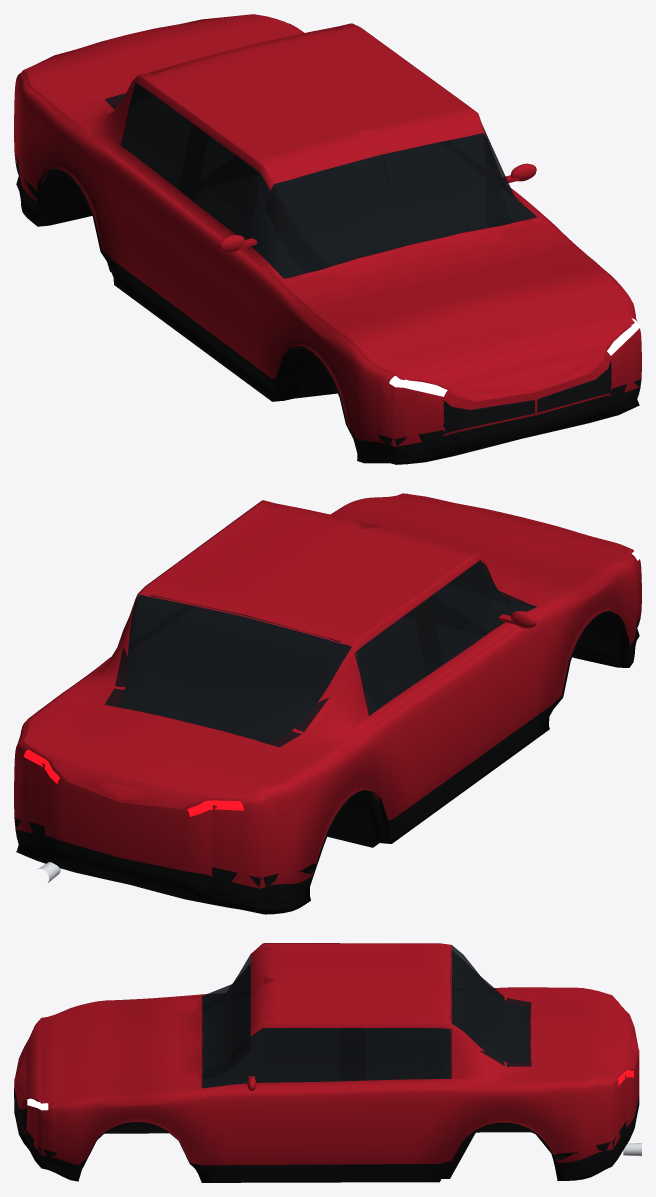
File: sedan.glb
3 views of the same model, one above another, from view 1: azimuth 30°, elevation 25°; view 2: azimuth 150°, elevation 25°; view 3: azimuth 270°, elevation 25° (orthographic). The views are drawn at different scales.
Visible parts, largest first — view 1: body (×2), grille, mirrors, headlights; view 2: body (×2); view 3: body (×2).
Boxes of the visible parts, x1=… form: body (×2): x1=14, y1=14, x2=641, y2=464; grille: x1=443, y1=360, x2=611, y2=433; mirrors: x1=219, y1=163, x2=536, y2=252; headlights: x1=389, y1=318, x2=640, y2=396; body (×2): x1=14, y1=493, x2=641, y2=914; body (×2): x1=14, y1=943, x2=639, y2=1182.
Size of the model in its own units: 2.07 by 1.28 by 4.72.
